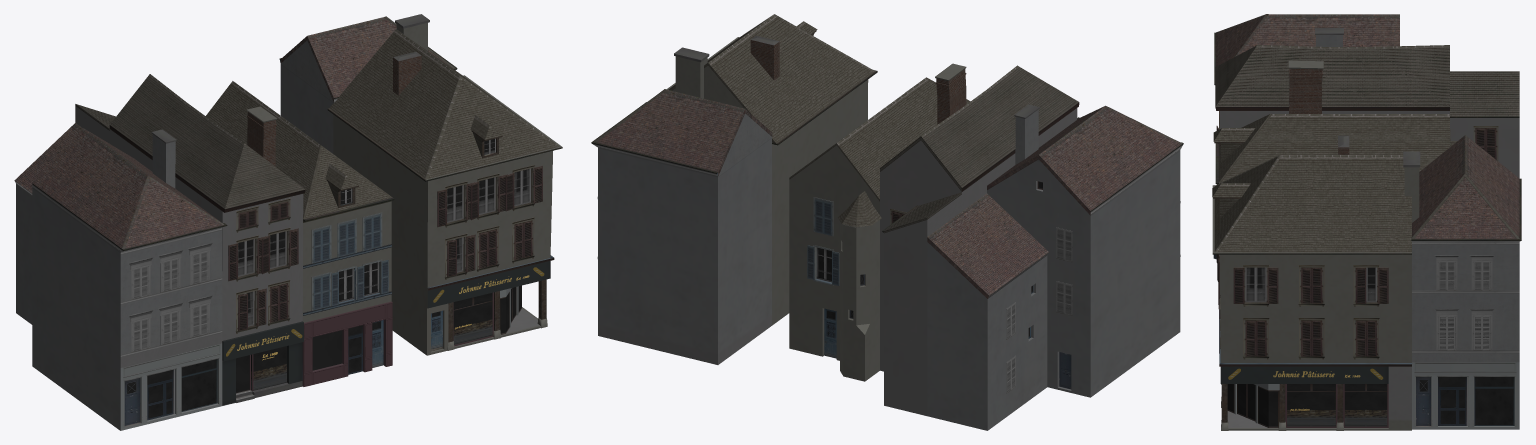
Rendered from Troyes Shop 7 France.glb.
The picture shows the model from 3 angles, left to right: view 1: azimuth 30°, elevation 25°; view 2: azimuth 150°, elevation 25°; view 3: azimuth 270°, elevation 25°; orthographic projection.
Visible parts, largest first — view 1: sketchfab.001_14_0; view 2: sketchfab.001_14_0; view 3: sketchfab.001_14_0.
Part boxes in pixels (x1,y1,x2,y2): sketchfab.001_14_0: (14, 14, 562, 430); sketchfab.001_14_0: (591, 14, 1183, 430); sketchfab.001_14_0: (1212, 14, 1521, 430).
Size of the model in its own units: 2584 by 1397 by 1552.
Materials: 1 (1 with a texture image).
